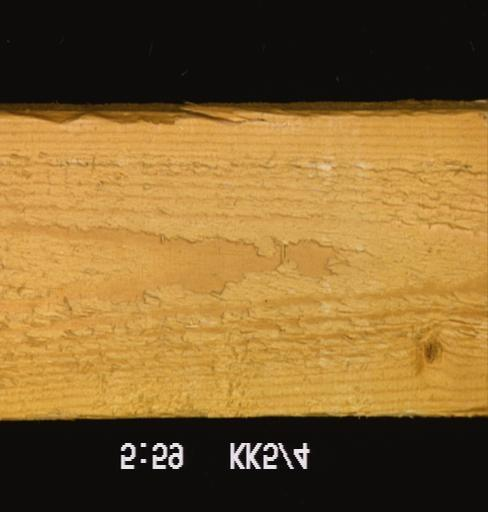small_knot: (419, 333, 446, 368)
split: (434, 403, 487, 417)
wave: (0, 103, 487, 133)
